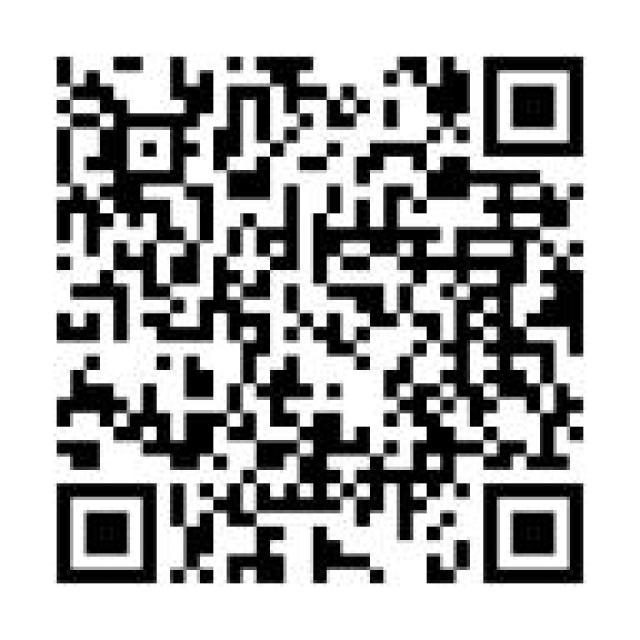qr_code: (56, 56, 583, 584)
